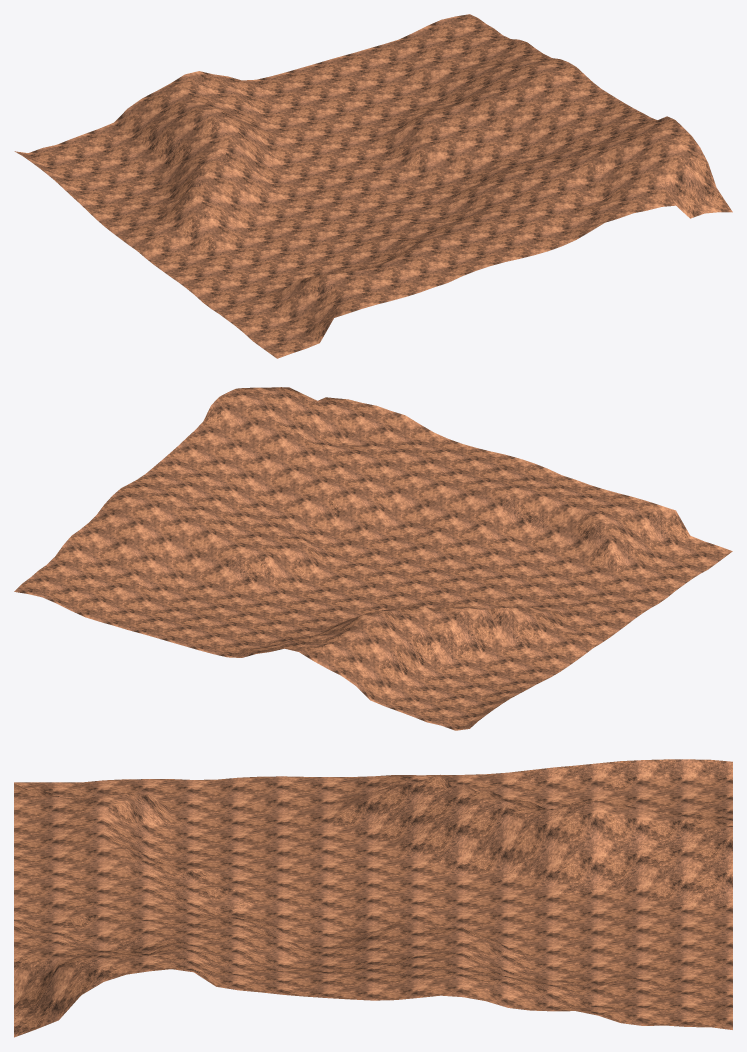
The model's file is terrain_04_17.dae.
3 views of the same model, one above another, from view 1: azimuth 30°, elevation 25°; view 2: azimuth 150°, elevation 25°; view 3: azimuth 270°, elevation 25° (orthographic). The views are drawn at different scales.
Visible parts, largest first — view 1: terrain_04_17-node; view 2: terrain_04_17-node; view 3: terrain_04_17-node.
Boxes of the visible parts, bbox=[...] form: terrain_04_17-node: bbox=[14, 14, 732, 358]; terrain_04_17-node: bbox=[14, 387, 732, 730]; terrain_04_17-node: bbox=[14, 759, 732, 1037].
Bounding box in the file's own units: 128 × 128 × 23.02.
1 material, 1 textured.
